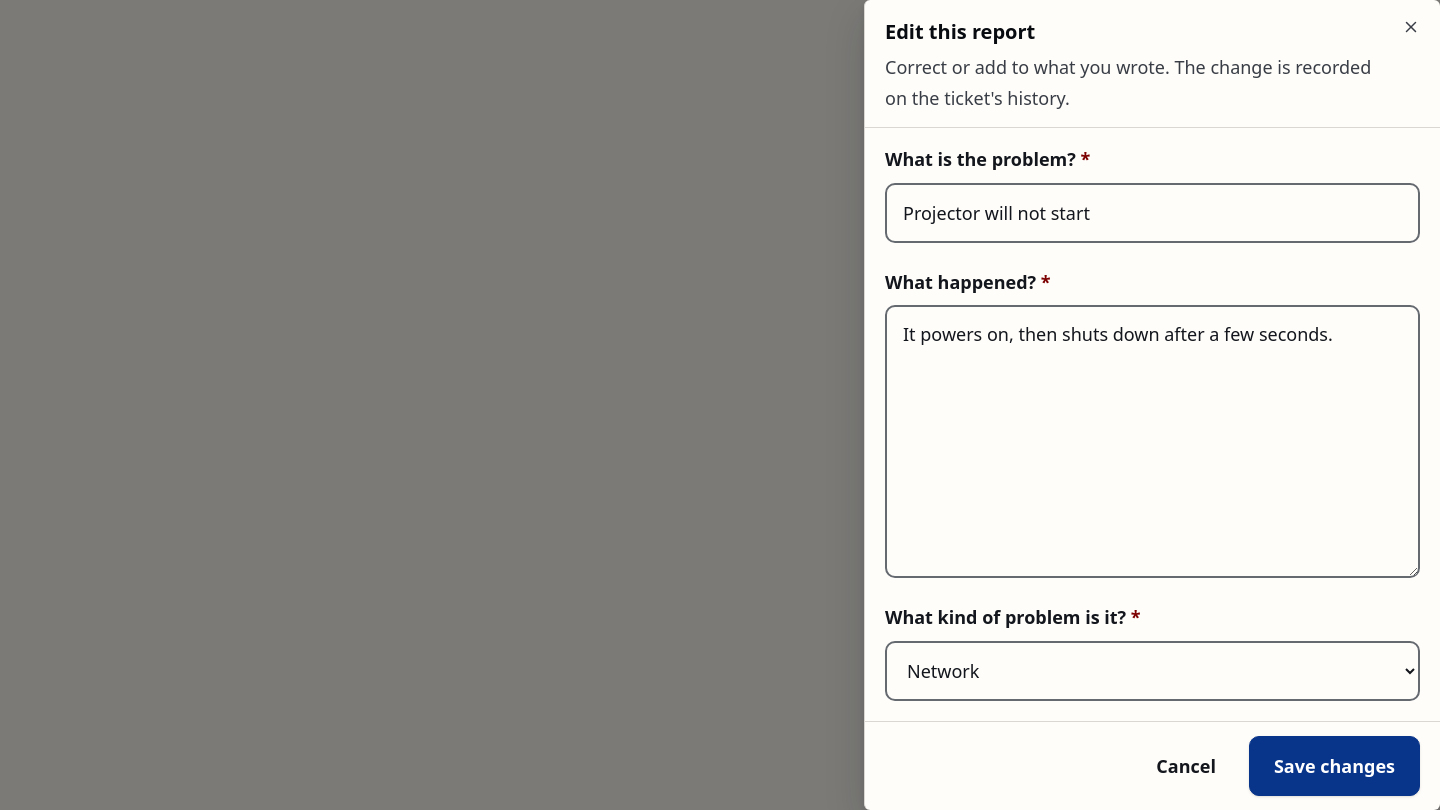
it: TicketEditDrawer — the "Other" description › moves focus to a field the server refused
Click the button "Save changes" at x=1334, y=766, box x1=1249 y1=736 x2=1420 y2=796
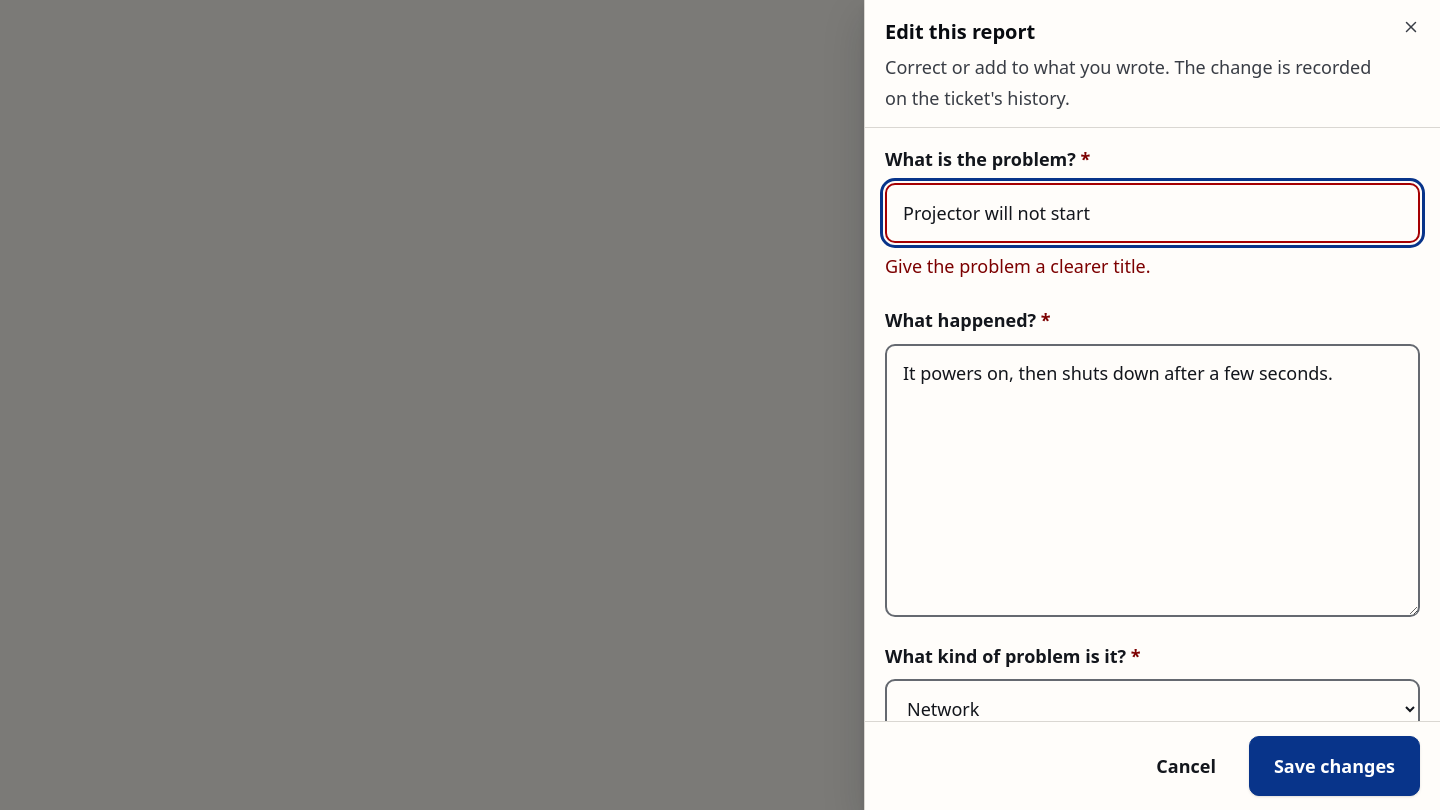
Check: the text "Give the problem a clearer title." is shown, box x1=885 y1=254 x2=1150 y2=278
